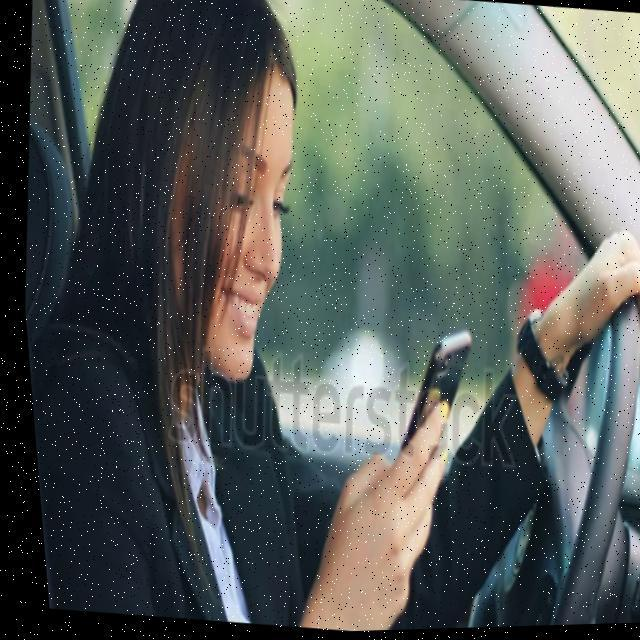PhoneCall: (379, 327, 474, 482)
